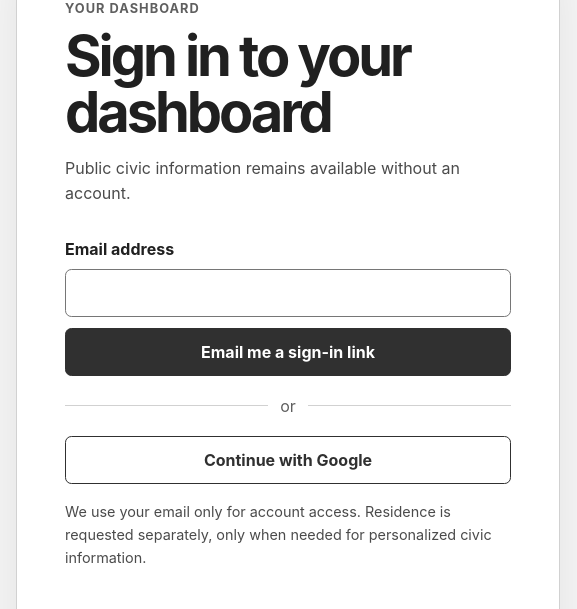
Test: public identity shell › requests a one-use link and confirms the next safe action
The width and height of the screenshot is (577, 609).
Type "voter@example.com" into the field labelled "Email address" at (288, 293), box left=65, top=269, right=511, bottom=317
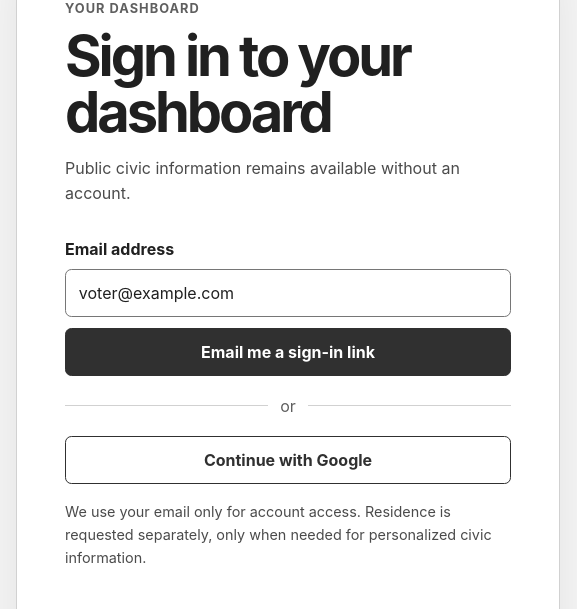
Submit the form "Email me a sign-in link", box left=65, top=239, right=511, bottom=376
(page scrolled)
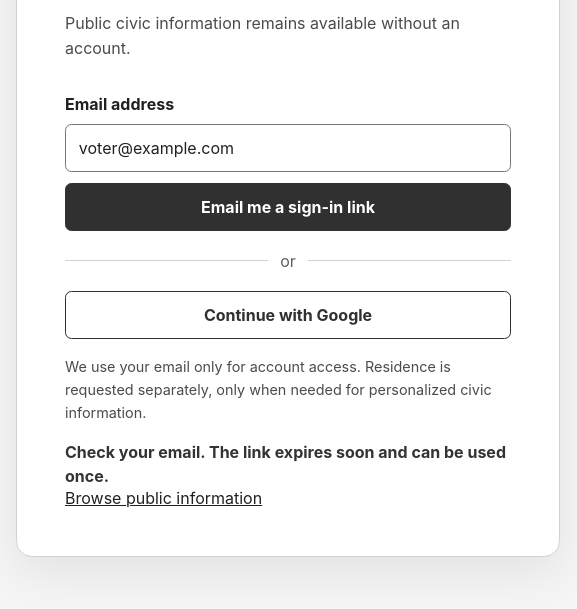
Now the text "Check your email. The link expires soon and can be used once." is shown, box left=65, top=440, right=511, bottom=488
